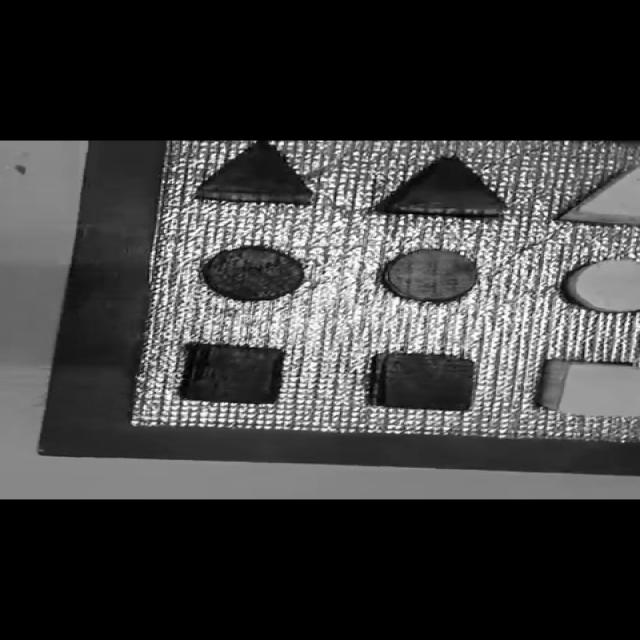bcircle: (203, 246, 304, 301)
bcube: (181, 344, 285, 405)
btriangle: (197, 141, 313, 204)
rcircle: (382, 249, 481, 303)
rcube: (372, 354, 478, 412)
rtriangle: (382, 156, 508, 217)
wb: (107, 140, 639, 451)
ycircle: (561, 257, 640, 314)
ycube: (557, 359, 640, 418)
ytriangle: (560, 161, 640, 227)
